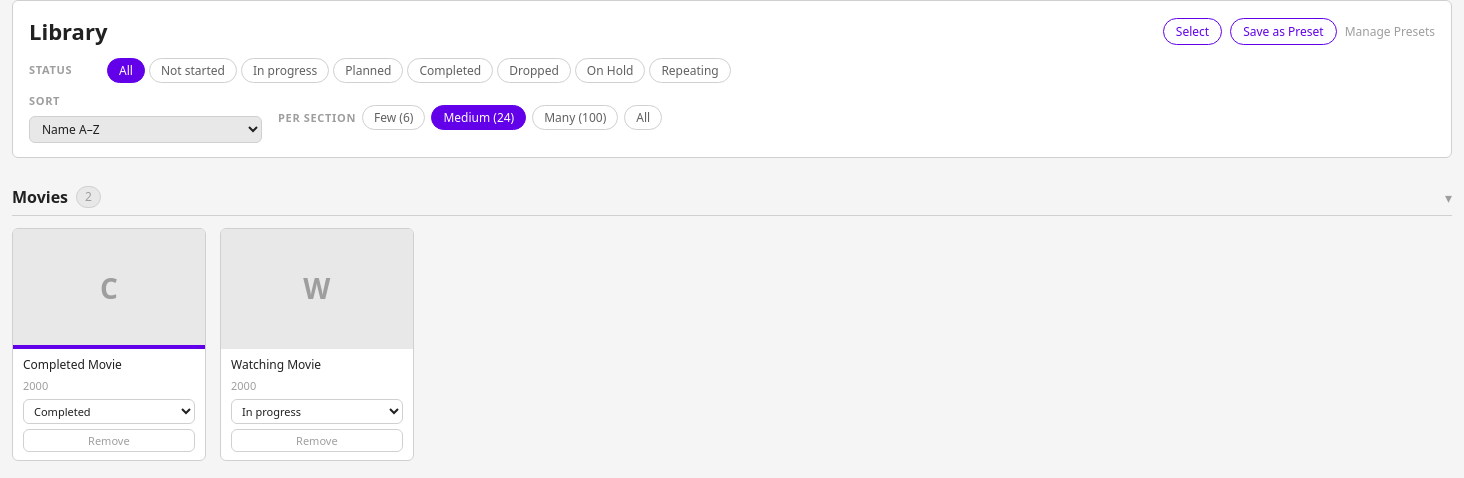
LibraryPage › filters by status on the server
Expected: the text "Watching Movie" is shown, [231, 356, 321, 373]
Expected: the text "Completed Movie" is shown, [23, 356, 122, 373]
Click the button "In progress" at (285, 70), box [241, 58, 329, 83]
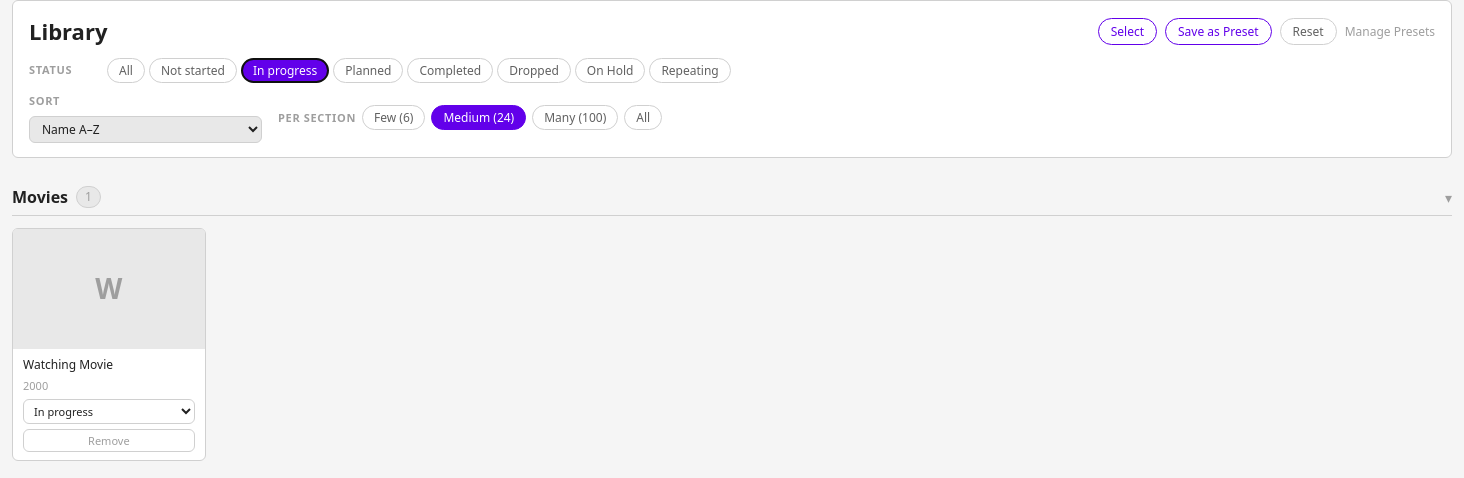
Expected: the text "Watching Movie" is shown, [23, 356, 113, 373]
Expected: the link "Completed Movie" is gone
